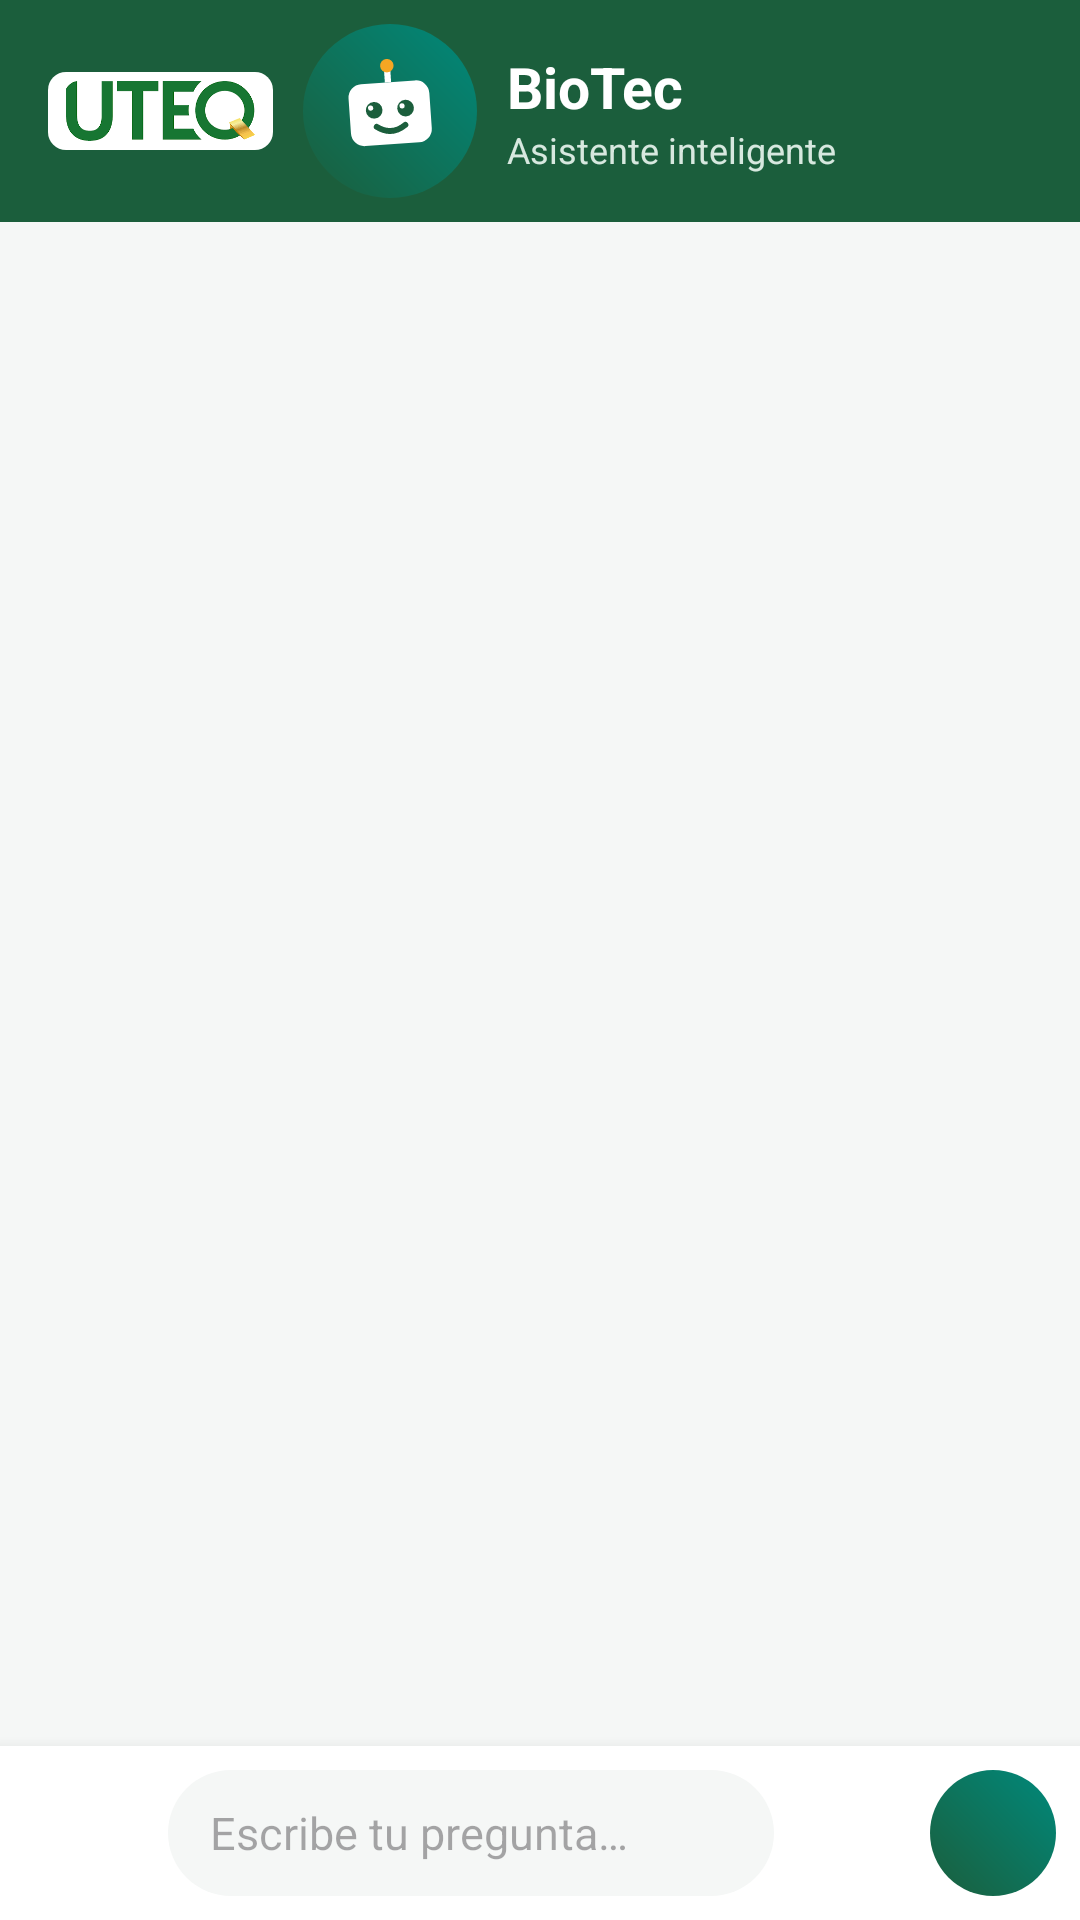

Named icons in this screenshot (1080 × 1920) and their centers, [x,y]:
nexobio robot: [395,106]
